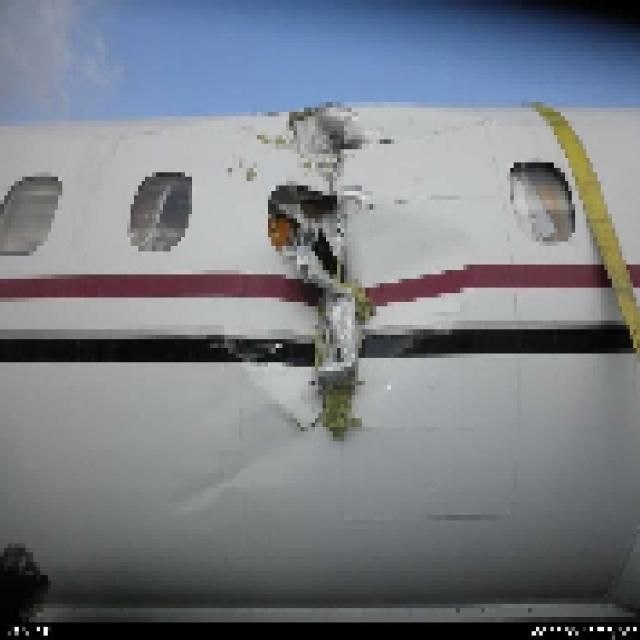crack: (269, 88, 387, 443)
dent: (368, 203, 473, 354), (180, 427, 313, 511)
